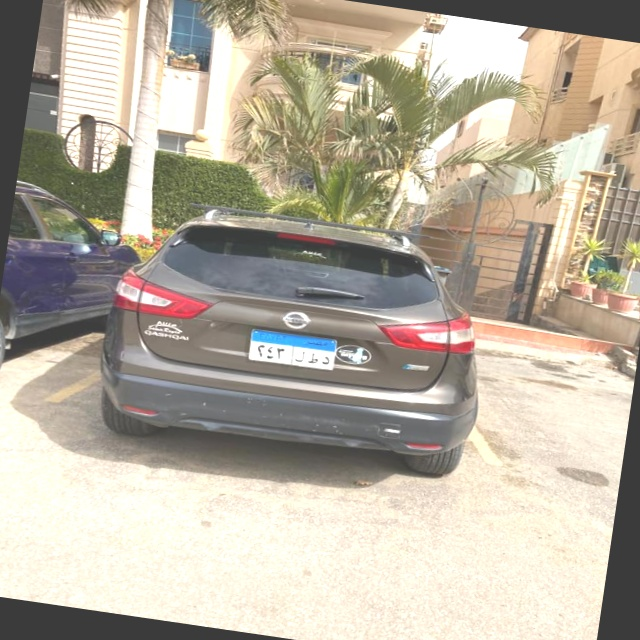License Plate: (245, 325, 340, 375)
